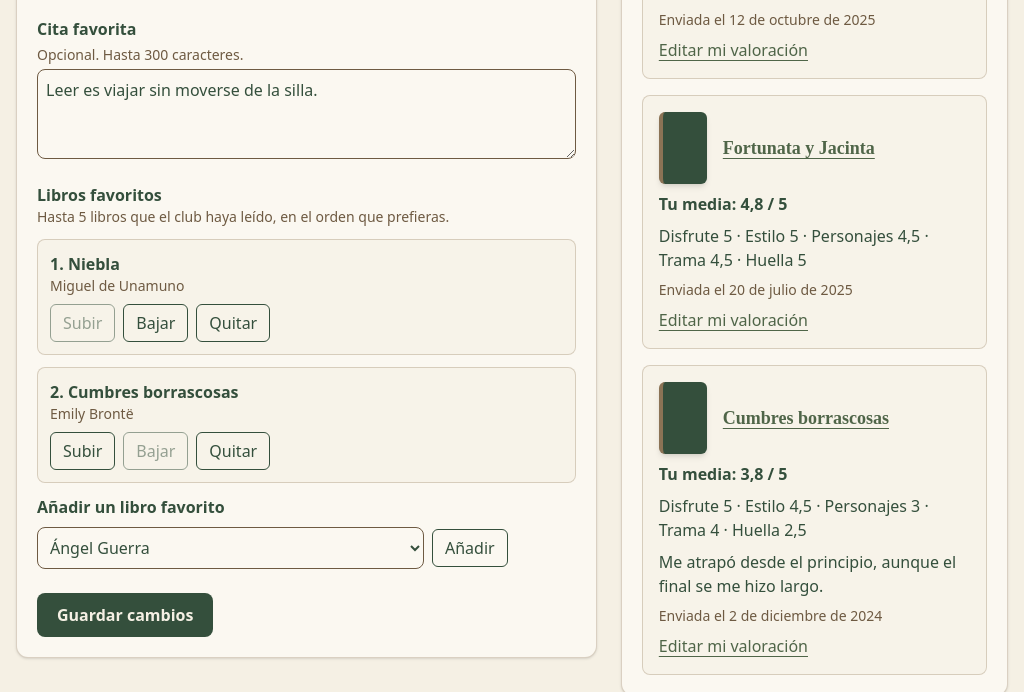
Test: Profile form: favourite books › adds a book at the end and announces it
(page scrolled)
Select "Fortunata y Jacinta" in the dropdown labelled "Añadir un libro favorito" at (230, 548), box [37,527,424,569]
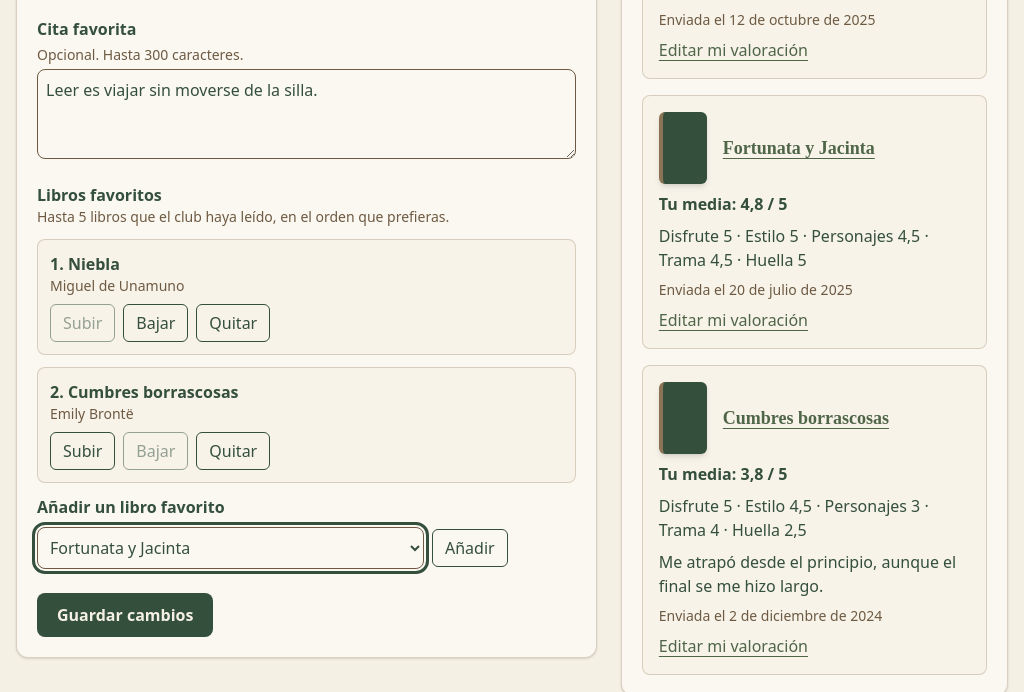
Click the button "Añadir".
click(470, 548)  # box [432,529,508,567]
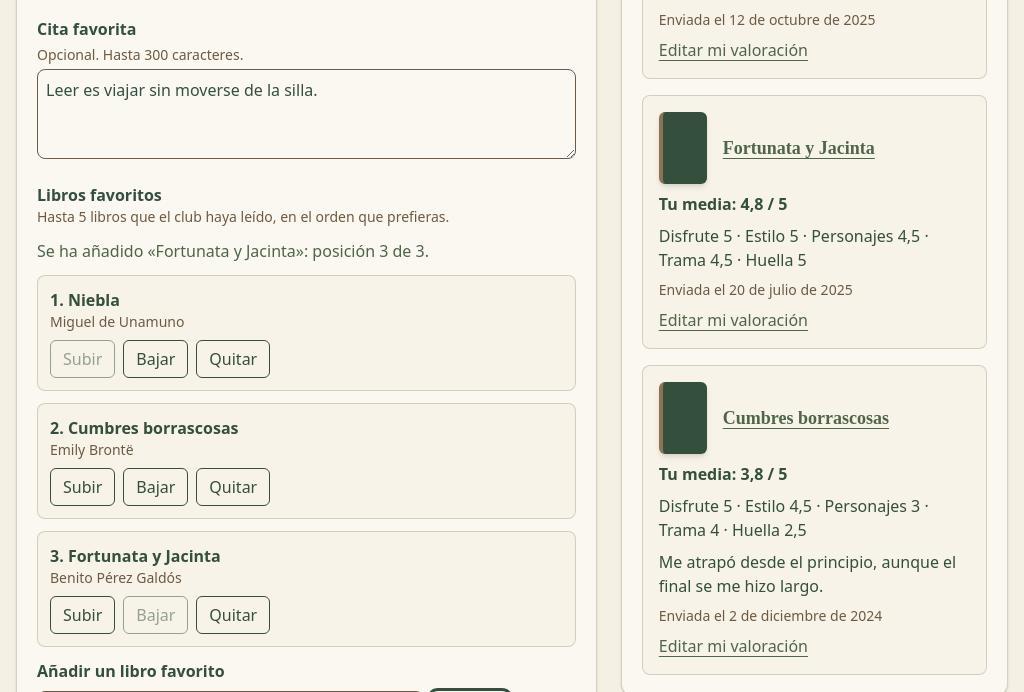
Check: the text "Fortunata y Jacinta" is not shown
Check: the message reads "Se ha añadido «Fortunata y Jacinta»: posición 3 de 3.", box [37,240,429,262]
